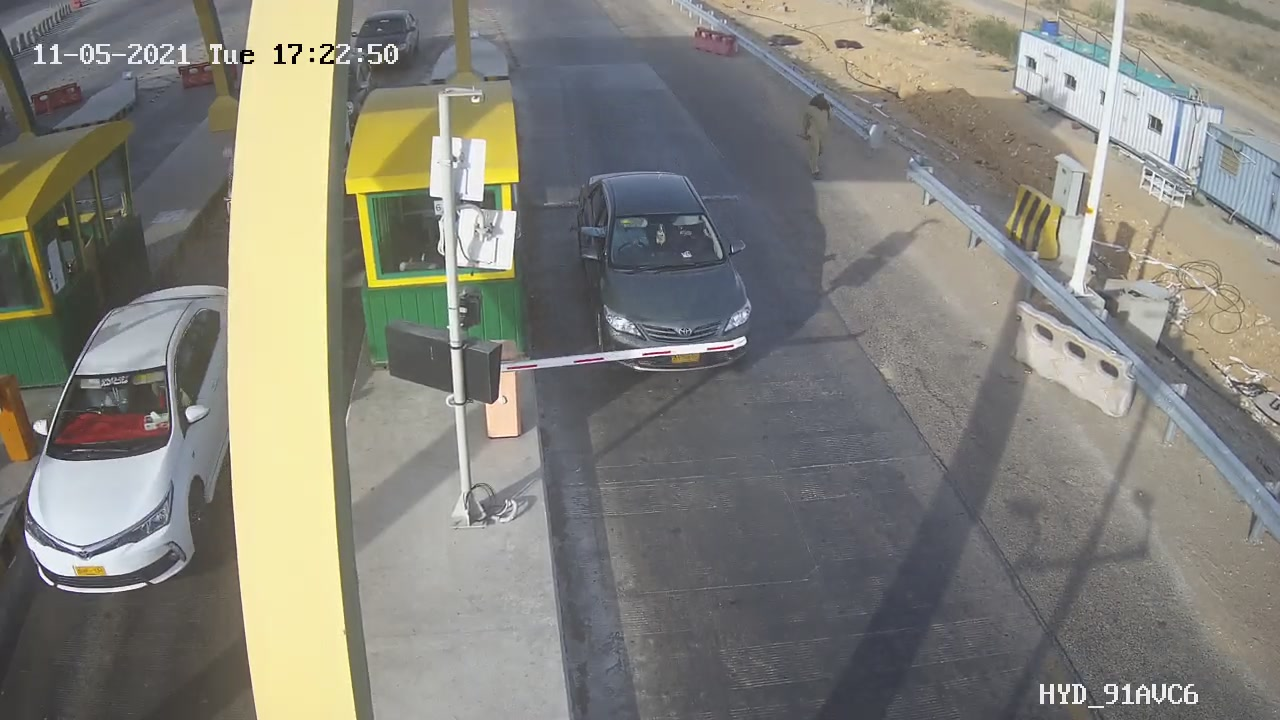F1: (556, 152, 779, 396)
